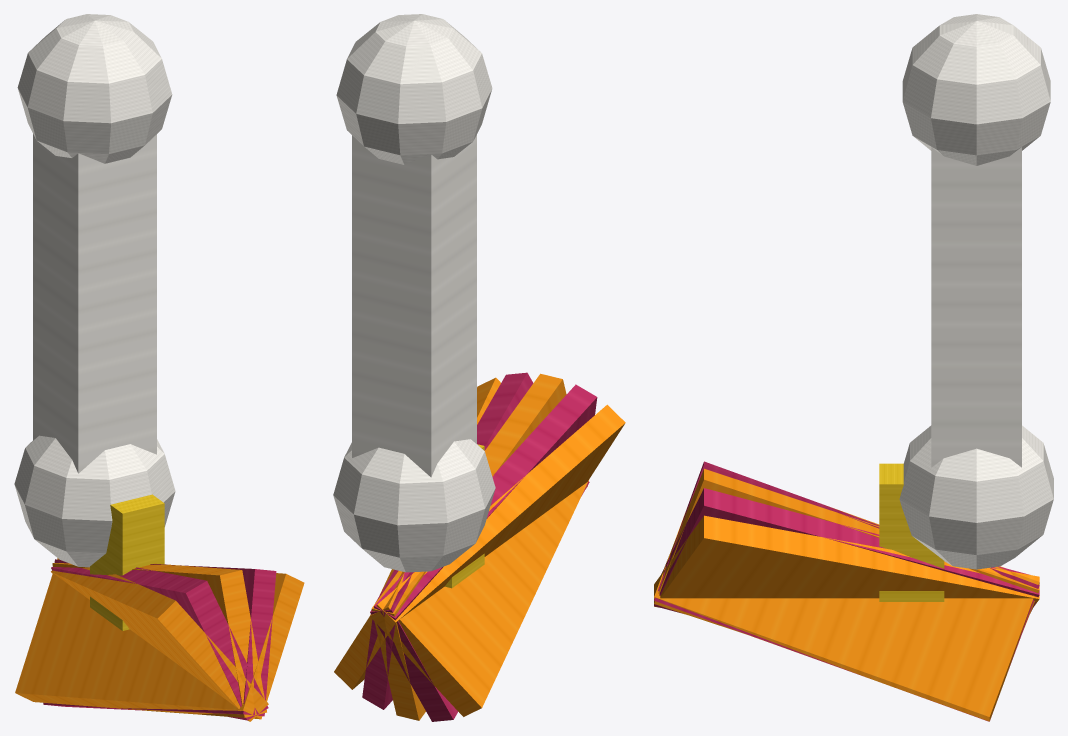
Rendered from catrina_abanico.obj.
3 views of the same model, side by side, from view 1: azimuth 30°, elevation 25°; view 2: azimuth 150°, elevation 25°; view 3: azimuth 270°, elevation 25° (orthographic).
Visible parts, largest first — view 1: catrina_abanico; view 2: catrina_abanico; view 3: catrina_abanico.
Boxes of the visible parts, x1,y1,x2,y2 form: catrina_abanico: (14,14,304,721); catrina_abanico: (333,14,625,721); catrina_abanico: (654,14,1053,721).
Bounding box in the file's own units: 0.0524 × 0.234 × 0.1232.
Materials: 1 (1 with a texture image).
